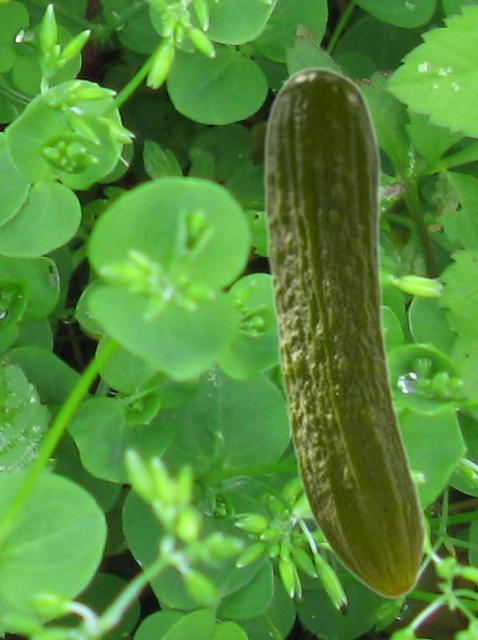cucumber: (262, 65, 426, 600)
